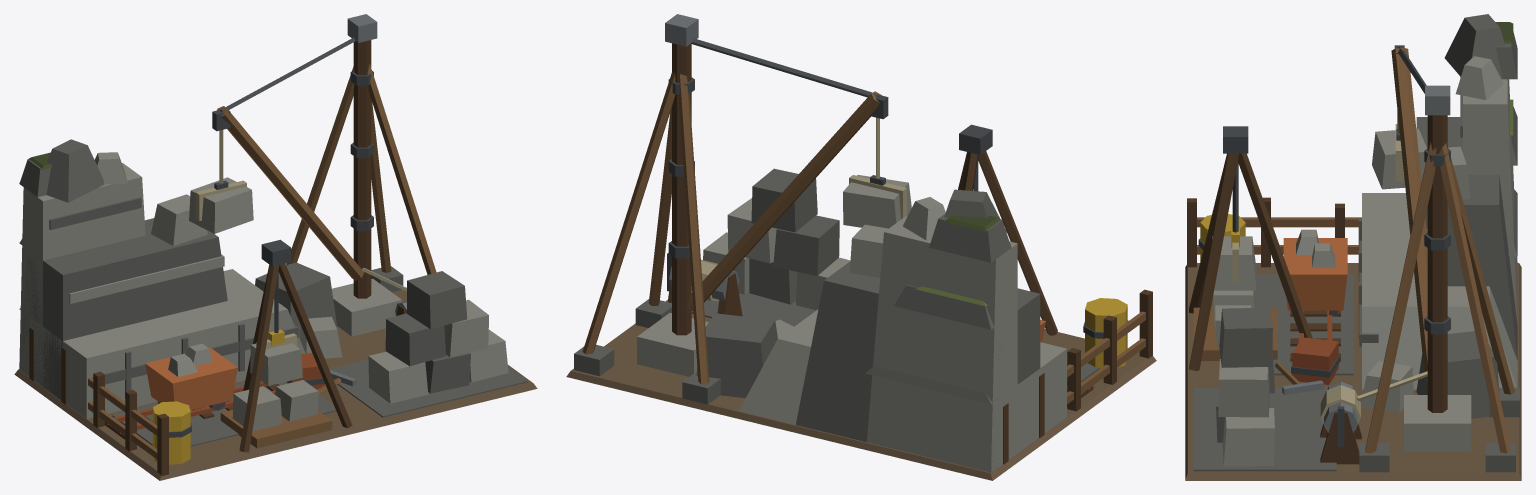
File: quarry_l2.glb
The picture shows the model from 3 angles, left to right: view 1: azimuth 30°, elevation 25°; view 2: azimuth 150°, elevation 25°; view 3: azimuth 270°, elevation 25°; orthographic projection. The views are drawn at different scales.
Visible parts, largest first — view 1: quarry_rock, quarry_derrick, quarry_props; view 2: quarry_rock, quarry_derrick, quarry_props; view 3: quarry_derrick, quarry_rock, quarry_props.
Part boxes in pixels (left/top/right/bottom): quarry_rock: left=19, top=139, right=342, bottom=418; quarry_derrick: left=14, top=14, right=537, bottom=480; quarry_props: left=29, top=110, right=508, bottom=475; quarry_rock: left=696, top=189, right=1066, bottom=472; quarry_derrick: left=566, top=14, right=1156, bottom=480; quarry_props: left=667, top=95, right=1152, bottom=464; quarry_derrick: left=1185, top=46, right=1521, bottom=480; quarry_rock: left=1358, top=14, right=1517, bottom=418; quarry_props: left=1187, top=45, right=1427, bottom=466.
Size of the model in its own units: 6 by 4.62 by 4.
